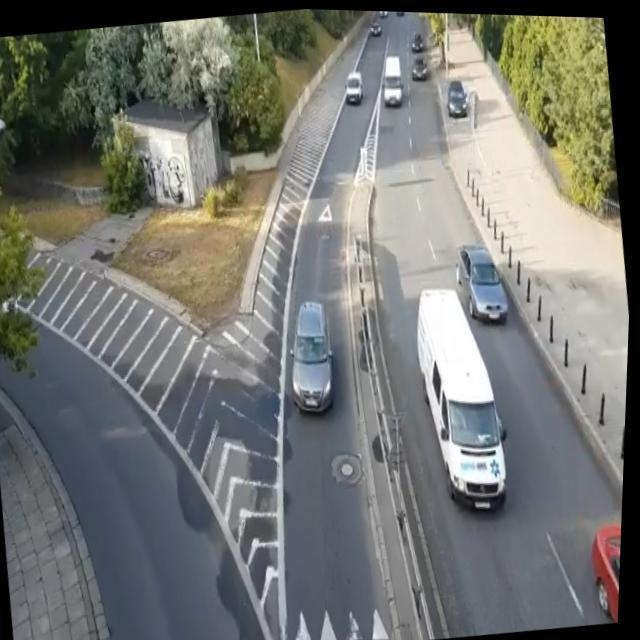Car: (400, 278, 527, 522), (279, 288, 347, 426), (446, 224, 516, 330), (584, 508, 626, 621), (378, 52, 410, 110), (444, 79, 472, 127), (340, 70, 366, 108), (408, 54, 434, 82)
